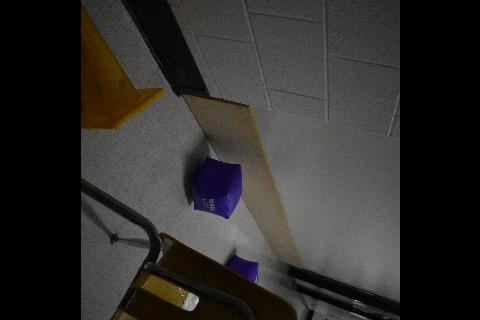cone: (80, 1, 164, 131)
cube: (188, 156, 243, 218), (224, 253, 258, 285)
